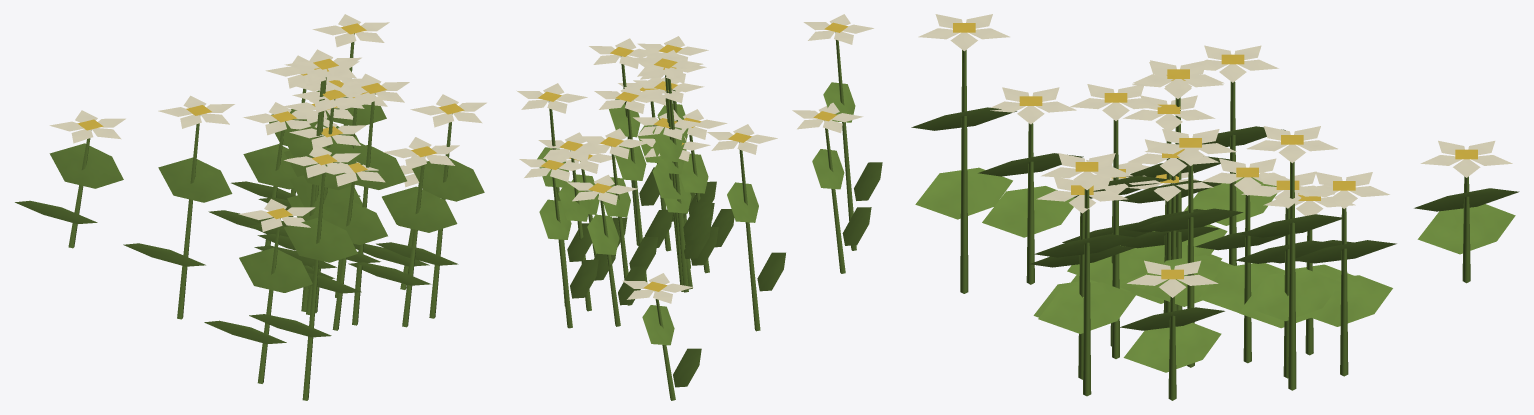
Rendered from Flowers_White.glb.
3 renders of one model, left to right at view 1: azimuth 30°, elevation 25°; view 2: azimuth 150°, elevation 25°; view 3: azimuth 270°, elevation 25°, orthographic. The views are drawn at different scales.
Visible parts, largest first — view 1: Flowers_White; view 2: Flowers_White; view 3: Flowers_White.
Part boxes in pixels (<box>): Flowers_White: <box>15,14,486,400</box>; Flowers_White: <box>516,14,882,400</box>; Flowers_White: <box>911,14,1519,400</box>.
Bounding box in the file's own units: 0.7799 × 0.605 × 1.18.
1 material, 1 textured.
